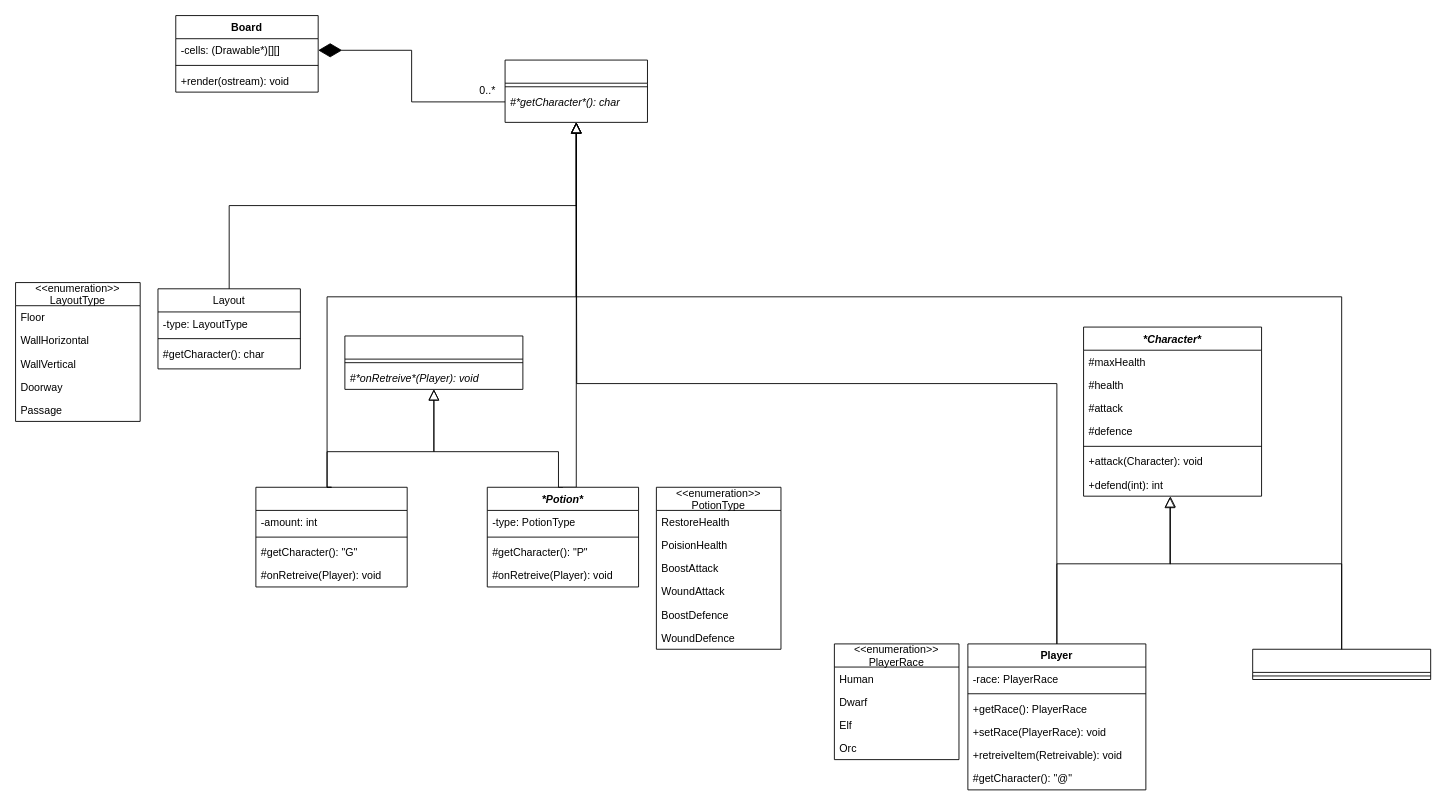
The diagram is 1446 pixels wide and 808 high, and some of its shapes have lost their labels. Each missing label, with the box of its shape:
*Drawable*: (504, 59, 647, 122)
*Retreivable*: (344, 335, 523, 389)
Enemy: (1252, 648, 1431, 680)
Treasure: (255, 486, 407, 587)
